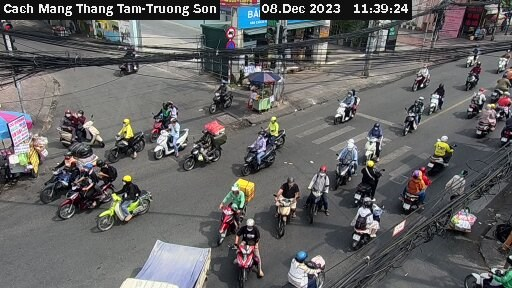motorbike: (85, 181, 166, 226), (206, 185, 256, 237), (44, 114, 113, 150), (299, 166, 343, 222), (456, 246, 512, 288), (226, 222, 272, 272), (285, 242, 334, 288), (58, 167, 108, 211), (267, 175, 305, 232), (42, 150, 90, 193), (181, 128, 229, 170), (398, 169, 435, 219), (155, 122, 196, 166), (149, 103, 197, 139), (109, 120, 149, 161), (328, 93, 372, 130), (362, 122, 398, 166), (239, 134, 275, 178), (325, 138, 362, 180), (422, 137, 464, 172), (207, 77, 248, 109), (261, 110, 295, 147), (355, 163, 387, 202), (398, 99, 428, 134), (474, 104, 504, 138), (357, 205, 381, 244), (427, 84, 454, 116), (411, 60, 437, 92), (425, 81, 454, 106), (463, 65, 485, 95), (491, 46, 512, 73), (461, 44, 483, 69)
